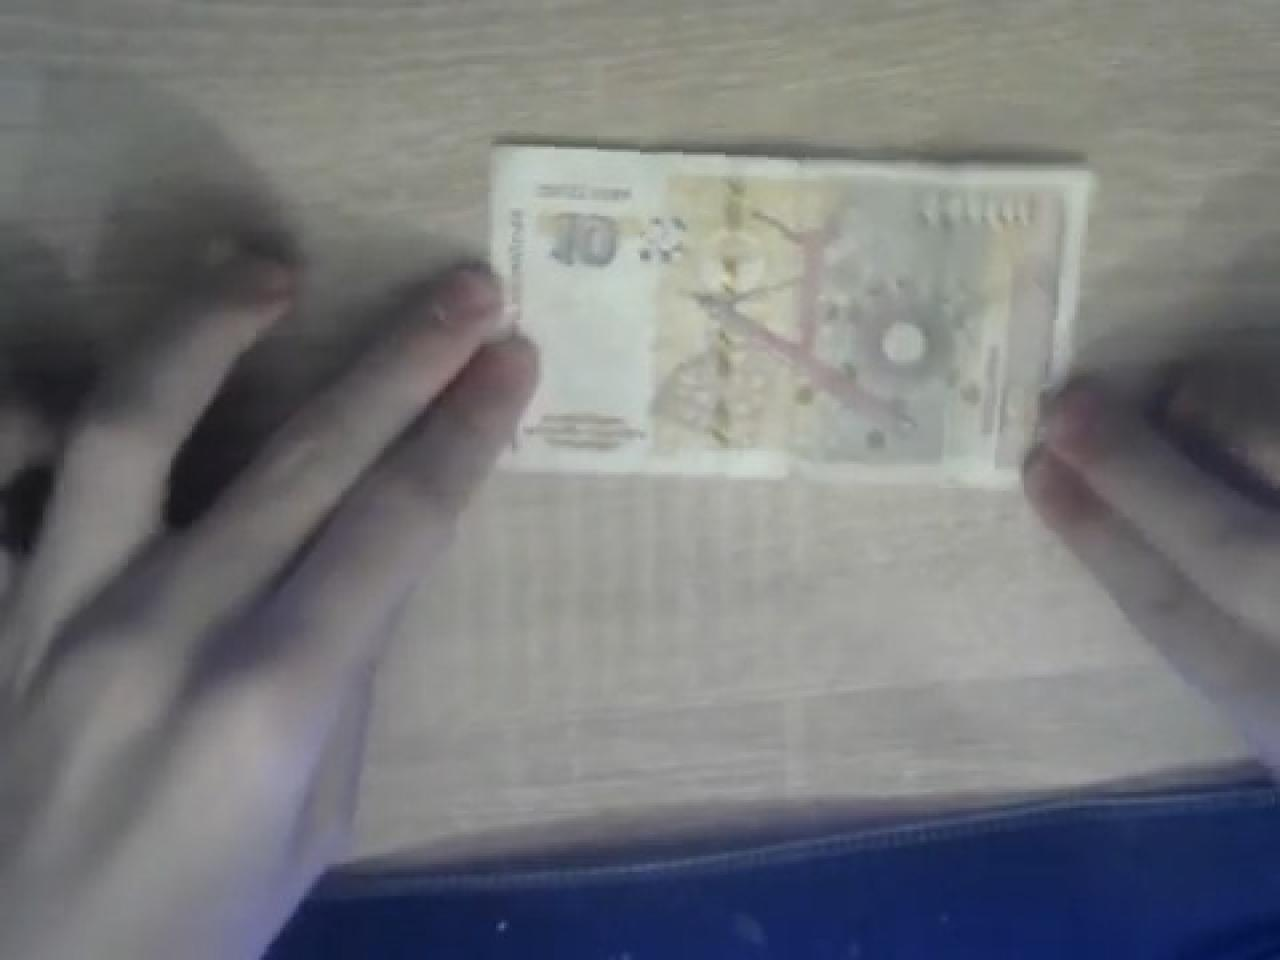10leva: (488, 139, 1096, 485)
